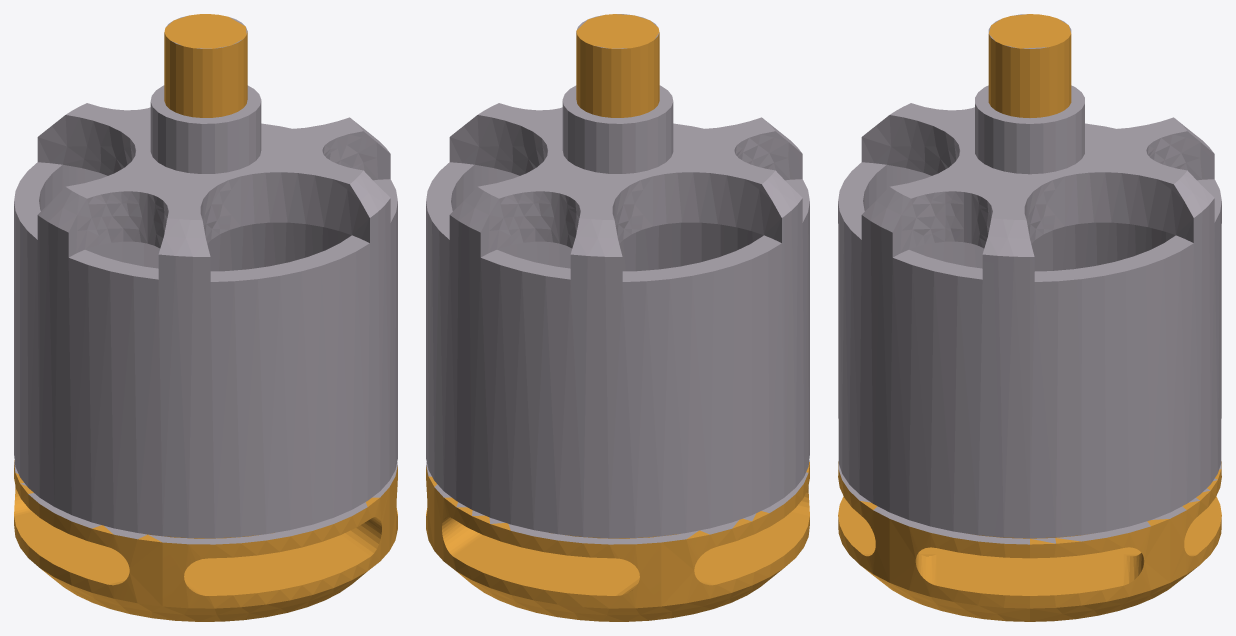
The model's file is motor.glb.
3 renders of one model, left to right at view 1: azimuth 30°, elevation 25°; view 2: azimuth 150°, elevation 25°; view 3: azimuth 270°, elevation 25°, orthographic.
Parts seen in each view (by area): view 1: motor_01; view 2: motor_01; view 3: motor_01.
Boxes of the visible parts, box(x1,y1,x2,y2) form: motor_01: box(14, 14, 397, 621); motor_01: box(426, 14, 809, 621); motor_01: box(838, 14, 1221, 621).
Bounding box in the file's own units: 27.7 × 44 × 27.7.
